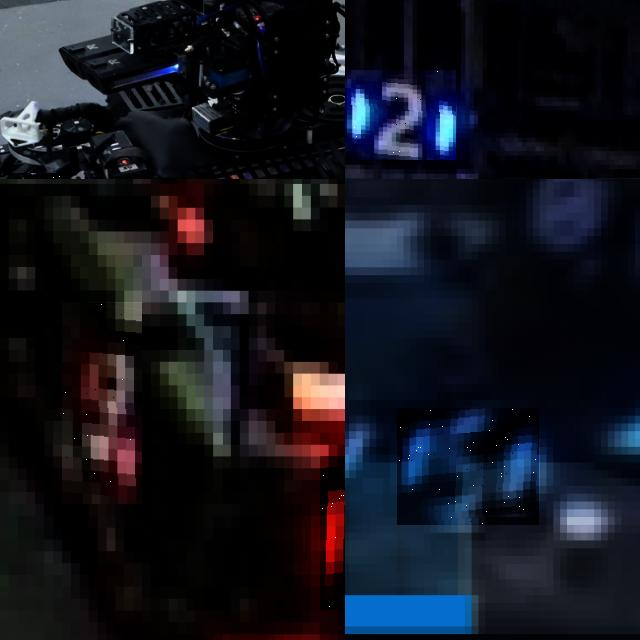B2: (347, 70, 456, 160)
B5: (397, 408, 539, 525)
R3: (62, 302, 142, 504)
